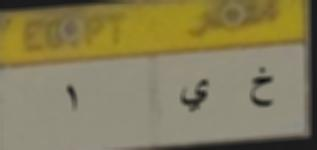1: (52, 81, 93, 116)
khaa: (245, 60, 281, 118)
yaa: (174, 75, 217, 117)
